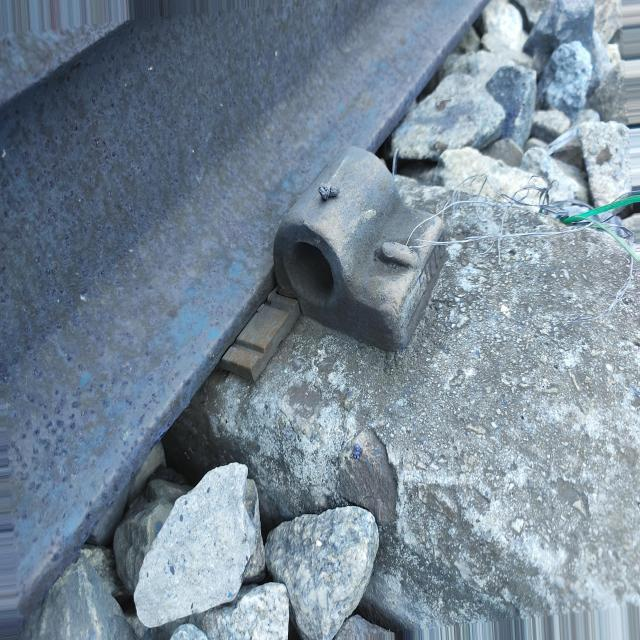Missing Fastener: (240, 127, 470, 398)
